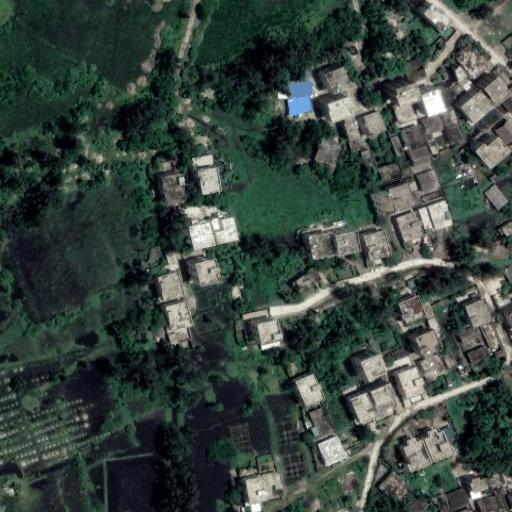building: (400, 427, 453, 472), (284, 73, 316, 116), (418, 199, 455, 232), (285, 257, 321, 290), (461, 89, 495, 123), (476, 136, 511, 169), (480, 75, 512, 107), (380, 470, 412, 501), (398, 50, 429, 82), (398, 366, 428, 399), (296, 373, 325, 407), (394, 211, 425, 242), (388, 182, 417, 214), (187, 219, 217, 249), (458, 47, 487, 78), (317, 436, 346, 467), (165, 301, 194, 332), (464, 298, 494, 327), (157, 271, 185, 302), (350, 392, 377, 424), (364, 229, 391, 260), (161, 170, 187, 202), (325, 66, 354, 94), (314, 139, 343, 167), (398, 295, 426, 324), (418, 353, 446, 382), (211, 214, 238, 244), (421, 88, 448, 117), (361, 353, 388, 381), (192, 259, 220, 286), (198, 165, 224, 194), (398, 488, 429, 512), (328, 95, 353, 124), (309, 407, 334, 436), (360, 111, 387, 137), (309, 232, 336, 258), (424, 4, 451, 30), (415, 330, 441, 357), (395, 81, 423, 104), (262, 471, 283, 500), (405, 125, 430, 149), (484, 184, 508, 209), (370, 383, 396, 406), (453, 63, 475, 90), (479, 321, 500, 349), (336, 231, 360, 255), (393, 100, 416, 125), (416, 169, 441, 192), (446, 487, 471, 510), (493, 118, 512, 147), (443, 119, 464, 145), (498, 299, 512, 336), (258, 320, 280, 343), (466, 346, 491, 366), (246, 477, 265, 503), (378, 162, 402, 182), (378, 194, 397, 218), (459, 325, 483, 344), (422, 114, 444, 133), (441, 349, 459, 371), (477, 495, 499, 512), (409, 144, 430, 161), (496, 31, 512, 53), (493, 488, 508, 509), (436, 494, 453, 512), (361, 149, 376, 169), (392, 346, 409, 363), (500, 91, 512, 114), (191, 155, 214, 167), (440, 109, 458, 124), (497, 221, 512, 239), (389, 135, 403, 154), (421, 301, 435, 319), (376, 400, 394, 414), (428, 134, 440, 154), (442, 424, 457, 439), (367, 258, 382, 269), (311, 426, 320, 438), (305, 420, 313, 428)
